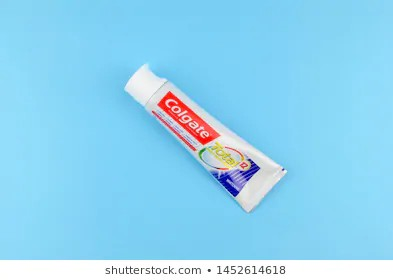colgate-total-150gm: (118, 63, 289, 215)
